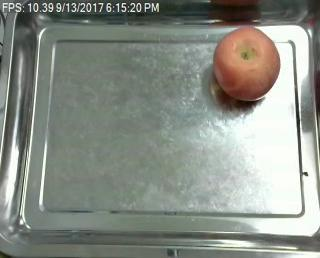apple: (213, 26, 281, 101)
